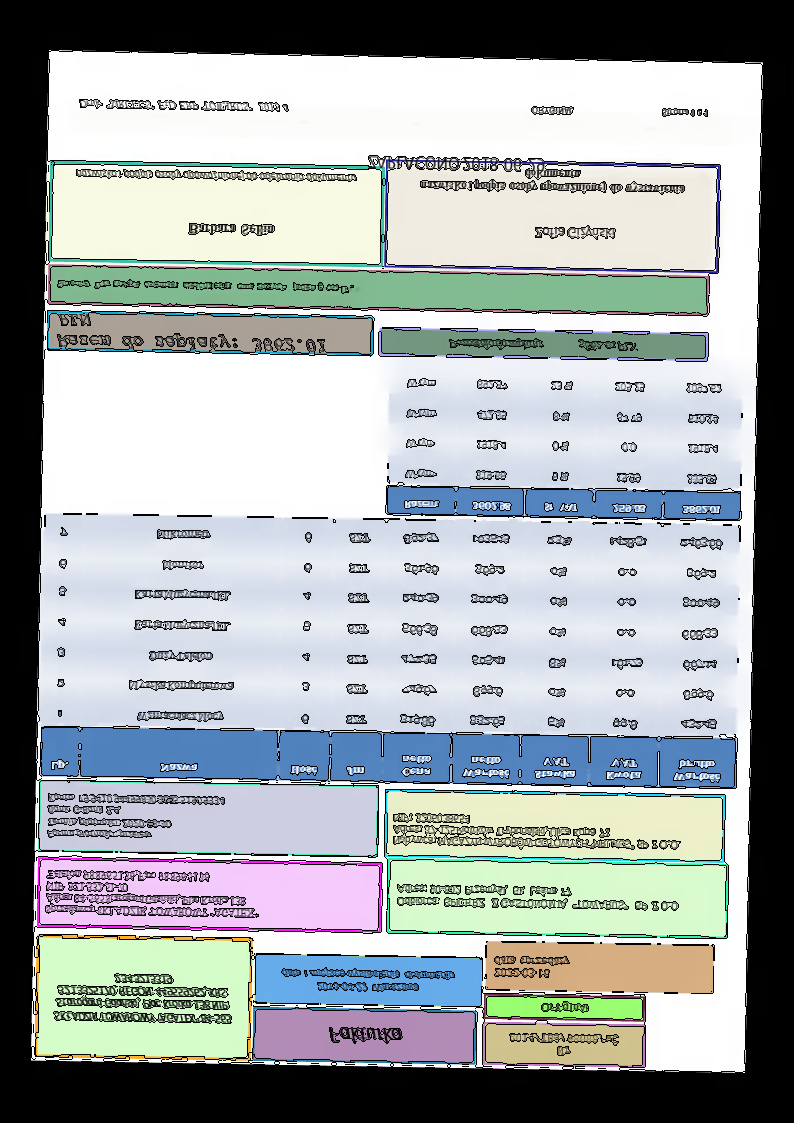Table: (39, 513, 741, 789), (385, 364, 743, 522)
TextBox: (390, 811, 681, 852), (42, 867, 259, 920), (55, 312, 327, 353), (50, 969, 233, 1027), (45, 790, 227, 844), (395, 881, 685, 914), (418, 166, 686, 196), (73, 166, 357, 186), (55, 277, 365, 295), (279, 966, 456, 996), (77, 97, 291, 115), (365, 153, 546, 173), (446, 336, 642, 354), (506, 1031, 621, 1059), (530, 104, 710, 120), (491, 952, 572, 981), (326, 1025, 403, 1045), (532, 224, 617, 241), (187, 222, 274, 238), (539, 1000, 592, 1015)
